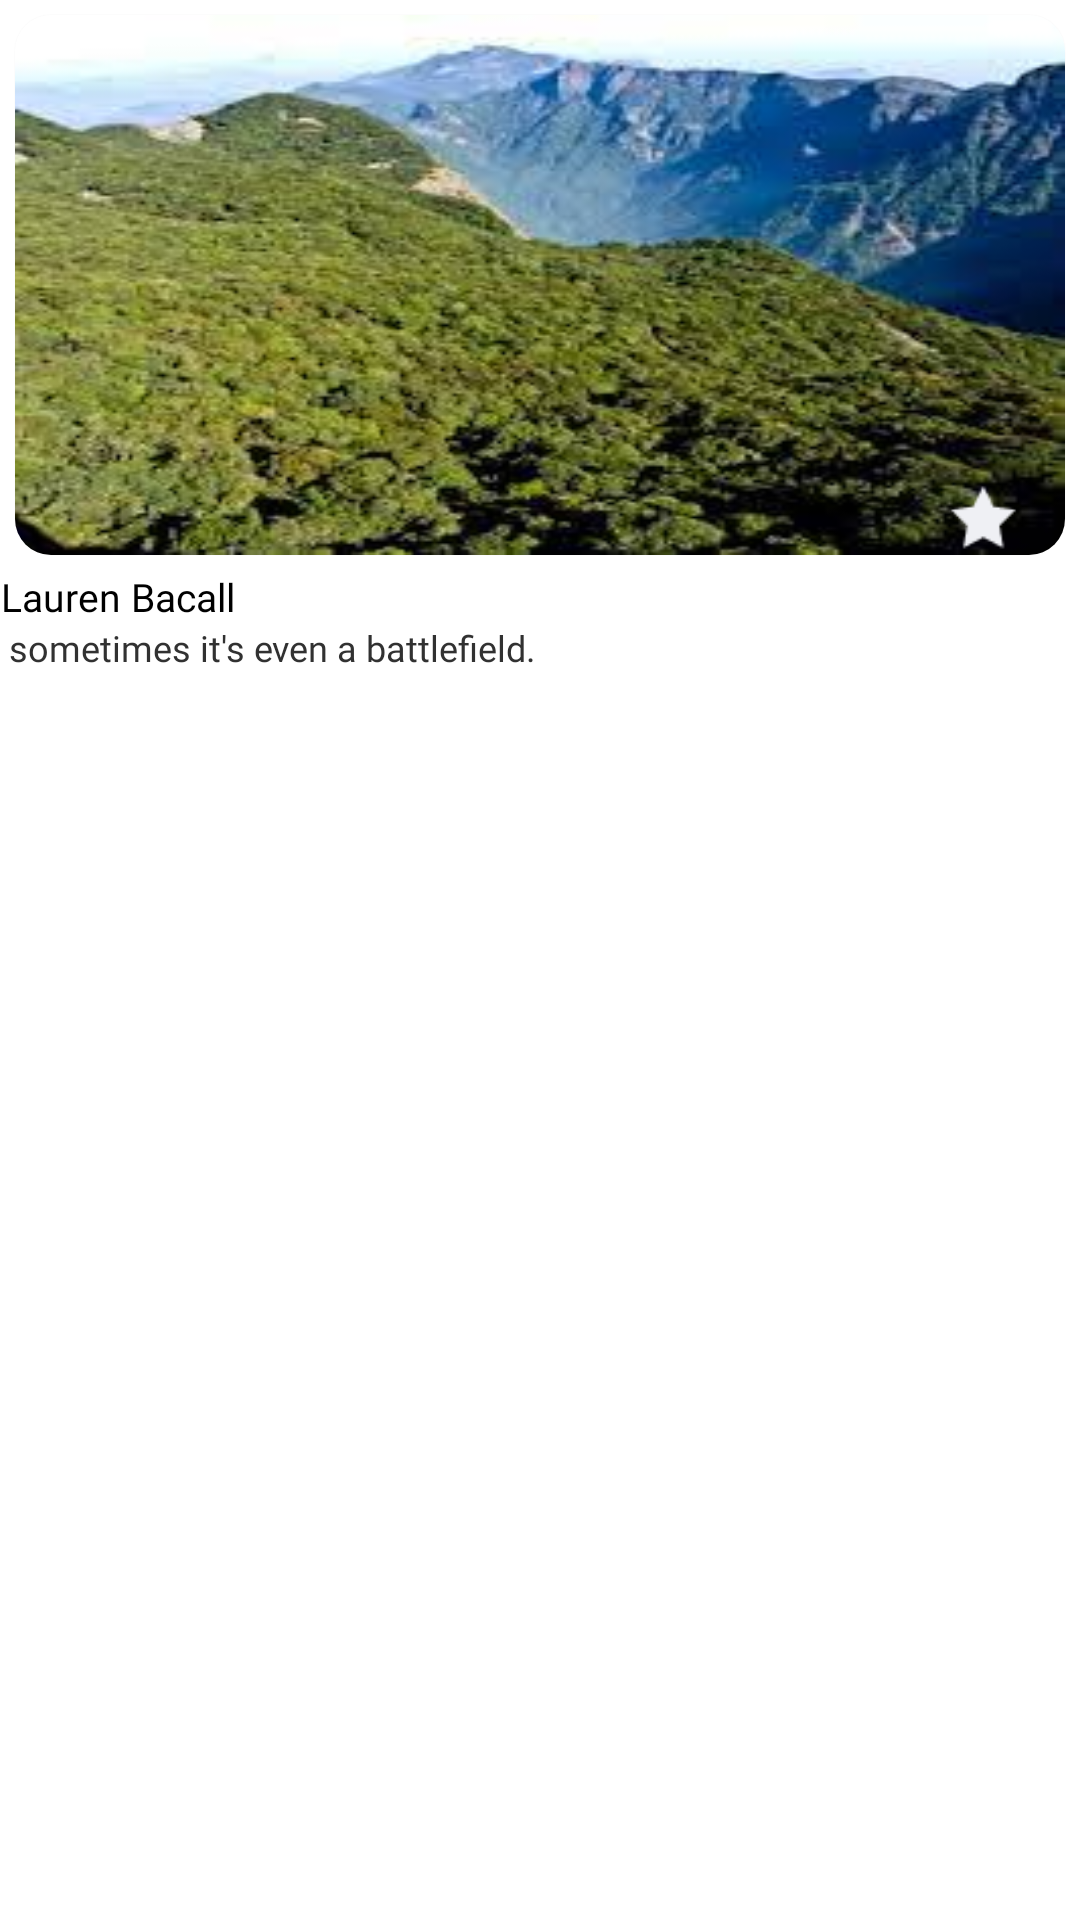

Where to tap for icons on this 1080 x 1920 app screen, as point (x, y):
star: point (982, 517)
